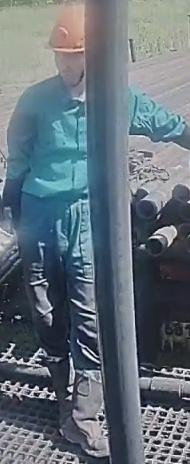gloves: (0, 222, 18, 258)
helmet: (45, 3, 87, 52)
vest: (0, 78, 94, 209)
